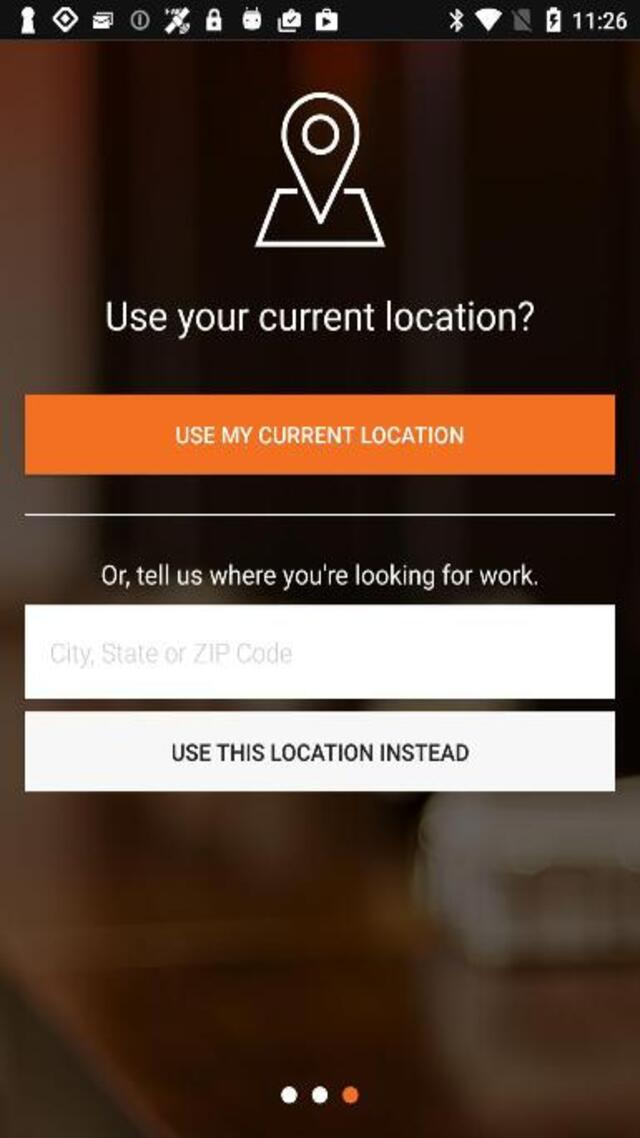Icon: (253, 91, 384, 247)
Text: (24, 394, 614, 474), (104, 300, 534, 337), (101, 562, 537, 590), (167, 738, 471, 767), (167, 421, 469, 447), (49, 641, 296, 668)
TextButton: (24, 712, 614, 792)
